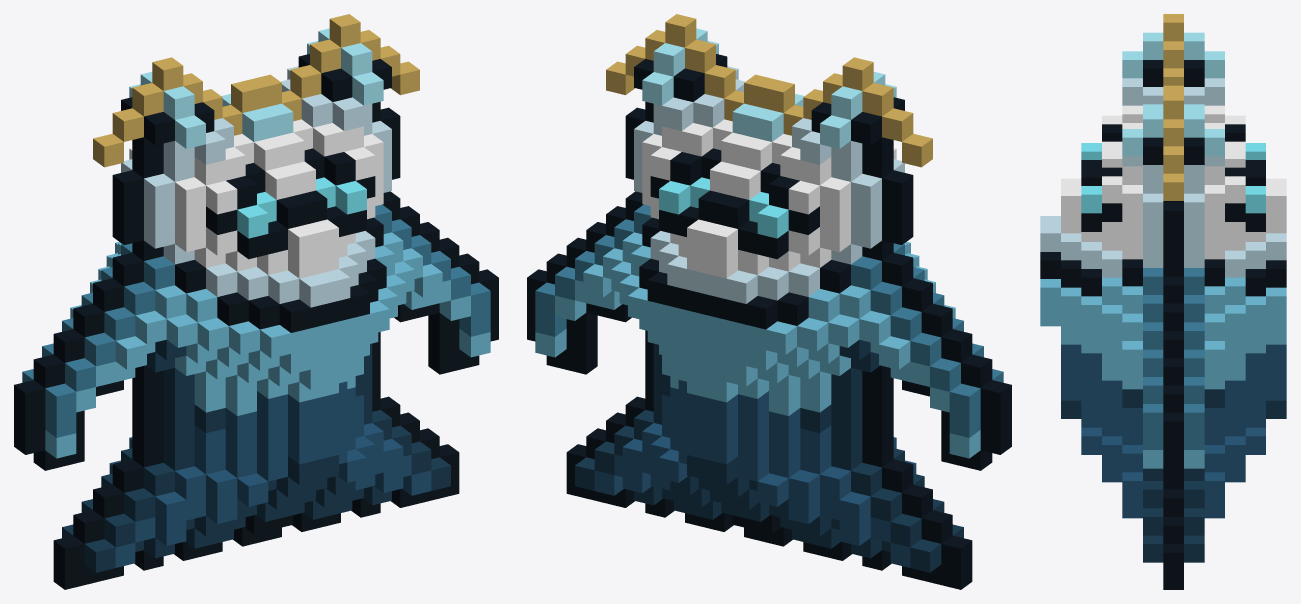
Rendered from nereth.glb.
3 views of the same model, side by side, from view 1: azimuth 30°, elevation 25°; view 2: azimuth 150°, elevation 25°; view 3: azimuth 270°, elevation 25° (orthographic). The views are drawn at different scales.
Visible parts, largest first — view 1: f0; view 2: f0; view 3: f0.
Boxes of the visible parts, box(x1,y1,x2,y2) form: f0: box(14, 14, 498, 589); f0: box(527, 14, 1011, 589); f0: box(1040, 14, 1286, 589).
Bounding box in the file's own units: 1.5 × 1.5 × 0.75.
